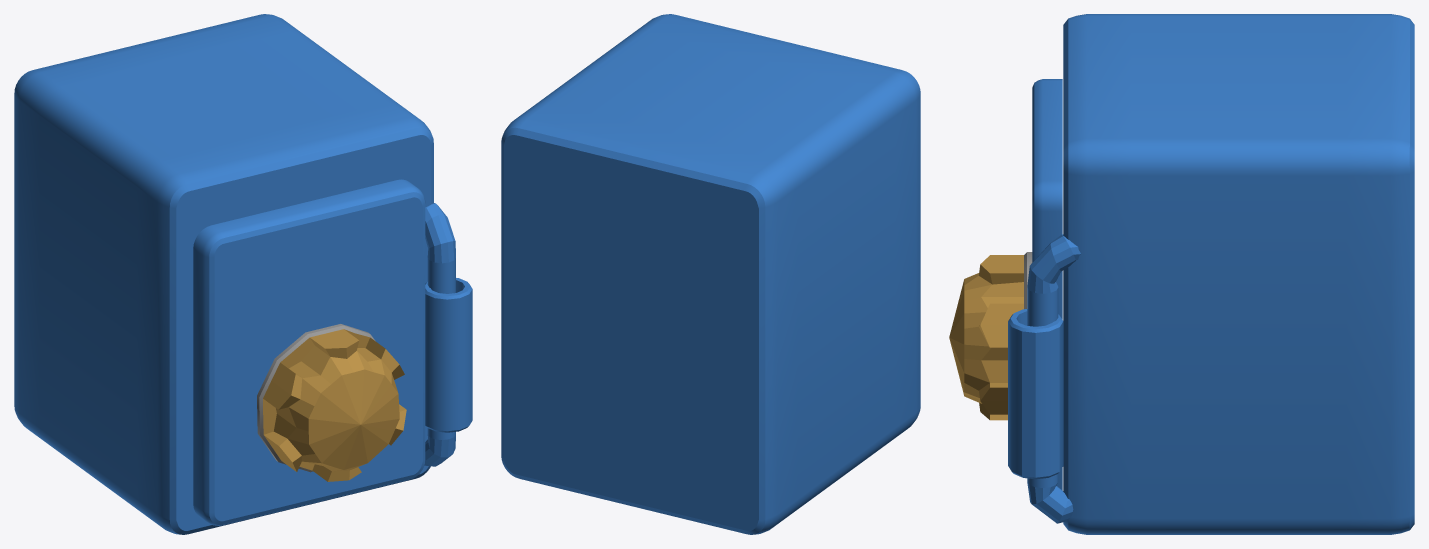
The model's file is 保险箱.FBX.
The picture shows the model from 3 angles, left to right: view 1: azimuth 30°, elevation 25°; view 2: azimuth 150°, elevation 25°; view 3: azimuth 270°, elevation 25°; orthographic projection. The views are drawn at different scales.
Parts seen in each view (by area): view 1: Rectangle002, 对象001, Cylinder001, Cylinder002, Cylinder003; view 2: Rectangle002; view 3: Rectangle002, Cylinder002, Cylinder001, 对象001, Cylinder003.
Part boxes in pixels (x1=…): Rectangle002: x1=14, y1=14, x2=433, y2=534; 对象001: x1=193, y1=179, x2=425, y2=525; Cylinder001: x1=257, y1=324, x2=406, y2=481; Cylinder002: x1=425, y1=278, x2=472, y2=432; Cylinder003: x1=424, y1=203, x2=455, y2=466; Rectangle002: x1=501, y1=14, x2=920, y2=534; Rectangle002: x1=1063, y1=14, x2=1414, y2=534; Cylinder002: x1=1008, y1=309, x2=1063, y2=479; Cylinder001: x1=949, y1=252, x2=1032, y2=420; 对象001: x1=1032, y1=79, x2=1062, y2=490; Cylinder003: x1=1027, y1=234, x2=1080, y2=523.
Size of the model in its own units: 139 by 164 by 176.
